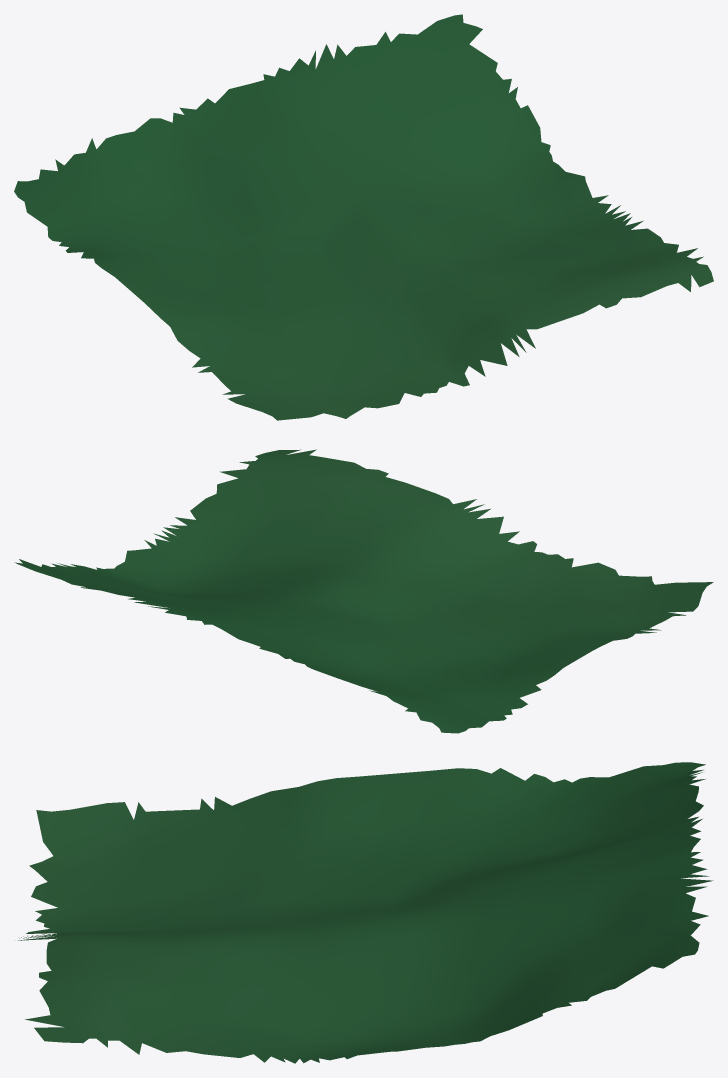
Rendered from payo_land_x3_y5_lod1.glb.
The picture shows the model from 3 angles, top to bottom: view 1: azimuth 30°, elevation 25°; view 2: azimuth 150°, elevation 25°; view 3: azimuth 270°, elevation 25°; orthographic projection. The views are drawn at different scales.
Parts seen in each view (by area): view 1: payo_land_x3_y5; view 2: payo_land_x3_y5; view 3: payo_land_x3_y5.
Boxes of the visible parts, x1=… form: payo_land_x3_y5: x1=14, y1=14, x2=713, y2=420; payo_land_x3_y5: x1=14, y1=449, x2=713, y2=733; payo_land_x3_y5: x1=18, y1=762, x2=713, y2=1063.
Bounding box in the file's own units: 269 × 62.7 × 274.
